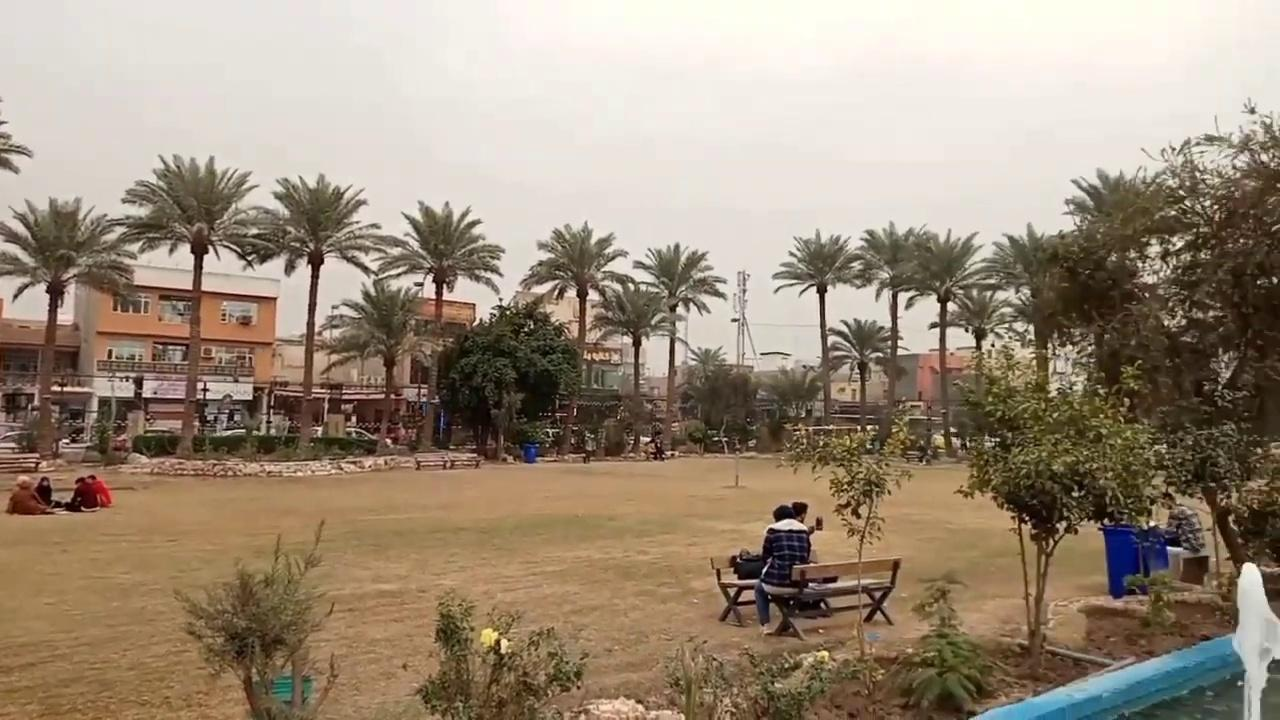fountain: (1230, 560, 1278, 718)
person: (754, 504, 812, 635), (790, 501, 831, 616), (5, 475, 52, 515), (64, 477, 99, 511), (84, 474, 113, 507), (33, 476, 53, 506), (651, 431, 665, 460)
tree: (949, 344, 1165, 679), (1134, 97, 1279, 578), (110, 151, 268, 456), (243, 171, 383, 446), (774, 419, 915, 692), (0, 194, 135, 454), (1044, 165, 1178, 421), (171, 516, 338, 718), (372, 198, 505, 446), (518, 219, 628, 453), (1154, 384, 1273, 588), (408, 587, 589, 718), (446, 298, 581, 460), (893, 226, 986, 455), (631, 241, 727, 453), (321, 279, 443, 445), (770, 227, 864, 426), (884, 572, 1005, 716), (850, 220, 929, 438), (588, 276, 681, 452), (979, 221, 1070, 396), (928, 284, 1016, 438), (825, 316, 894, 437), (678, 345, 756, 452), (447, 349, 517, 459), (756, 362, 830, 425), (315, 323, 377, 388), (681, 344, 727, 429), (0, 96, 33, 176), (685, 344, 726, 384)
